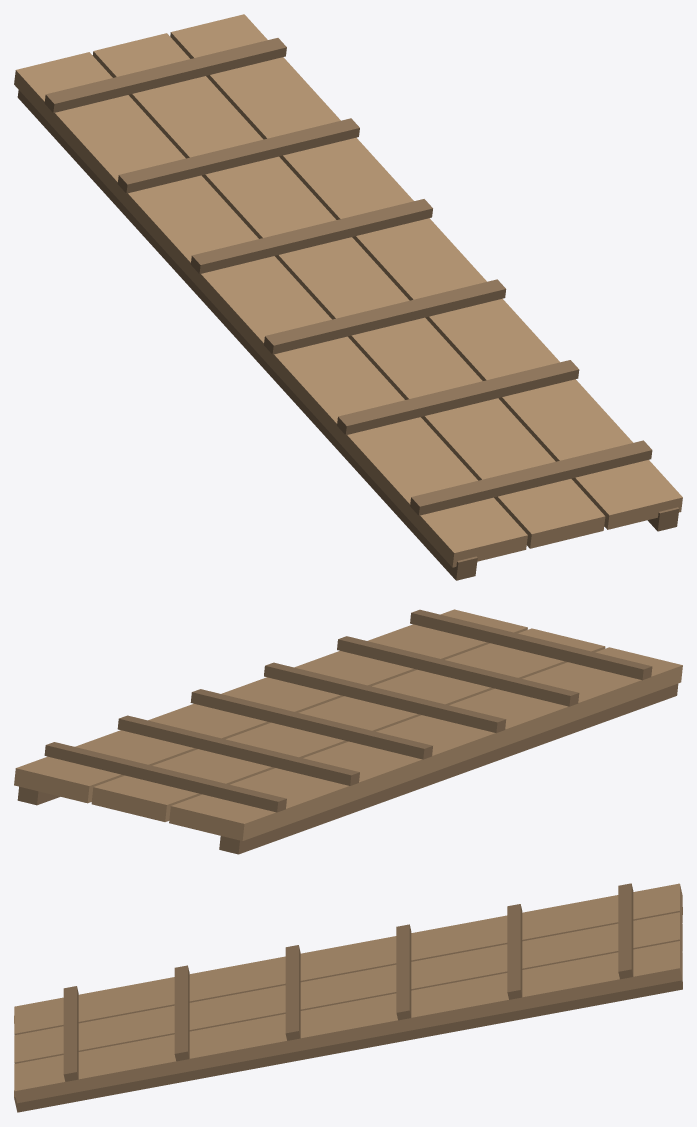
The model's file is prop-ramp-plank.fbx.
The picture shows the model from 3 angles, top to bottom: view 1: azimuth 30°, elevation 25°; view 2: azimuth 150°, elevation 25°; view 3: azimuth 270°, elevation 25°; orthographic projection. The views are drawn at different scales.
Parts seen in each view (by area): view 1: prop-ramp-plank; view 2: prop-ramp-plank; view 3: prop-ramp-plank.
Boxes of the visible parts, <box> form: prop-ramp-plank: <box>14,14,682,580</box>; prop-ramp-plank: <box>14,609,682,854</box>; prop-ramp-plank: <box>14,883,682,1112</box>.
Size of the model in its own units: 60 by 47.41 by 197.
